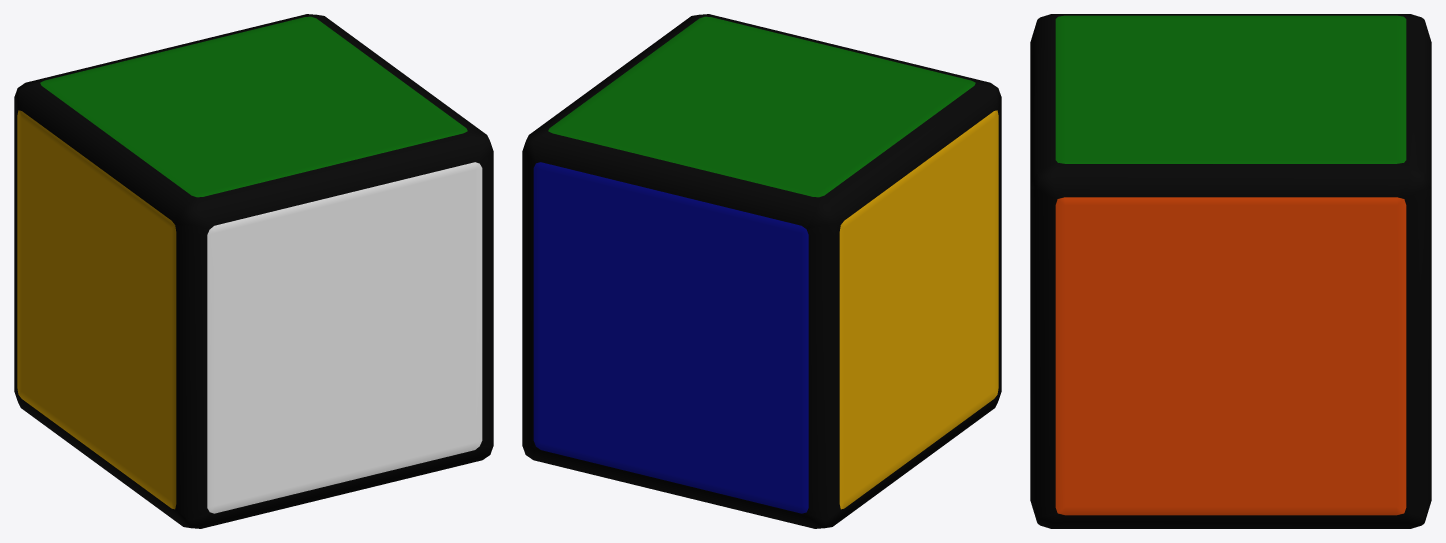
3 views of the same model, side by side, from view 1: azimuth 30°, elevation 25°; view 2: azimuth 150°, elevation 25°; view 3: azimuth 270°, elevation 25° (orthographic). The views are drawn at different scales.
Parts seen in each view (by area): view 1: 11; view 2: 11; view 3: 11.
Part boxes in pixels (<box>): 11: <box>14,14,493,528</box>; 11: <box>522,14,1001,528</box>; 11: <box>1030,14,1431,528</box>.
Size of the model in its own units: 10 by 10 by 10.
